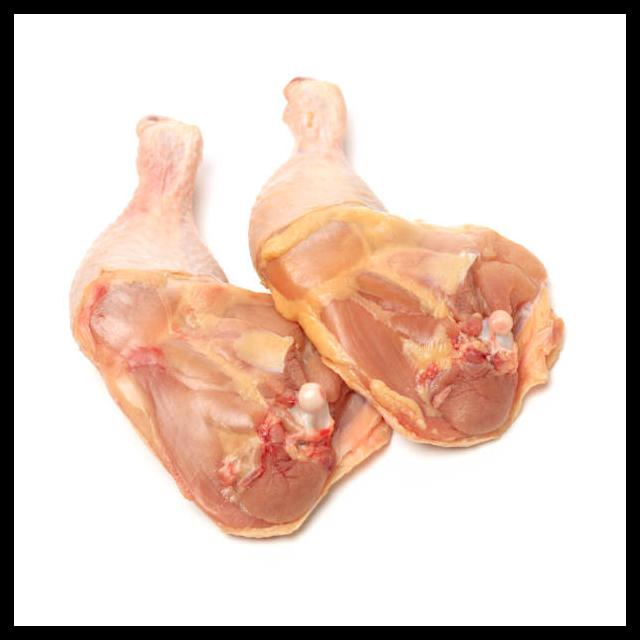chicken: (67, 109, 394, 541), (246, 73, 565, 452)
